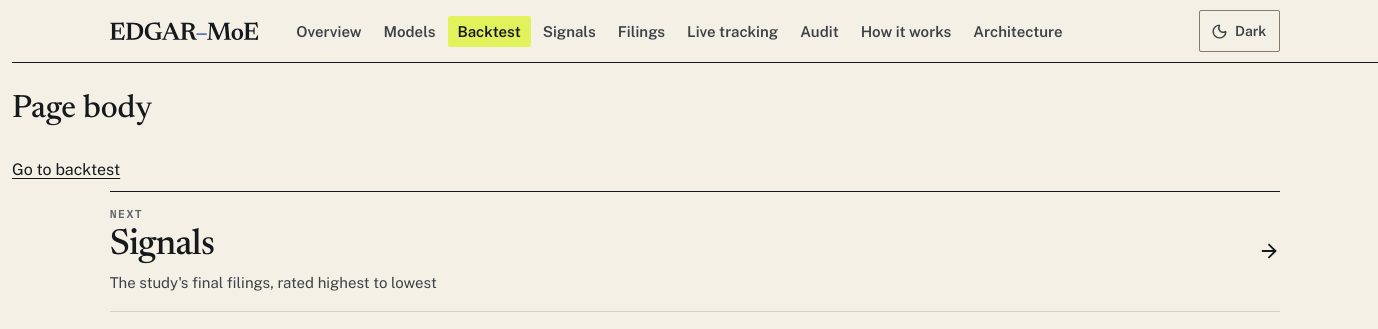
Layout › points to the next page, and back to the start from the last one
Step 1. Click the link "How it works" → (906, 31), box [861,22,951,40]
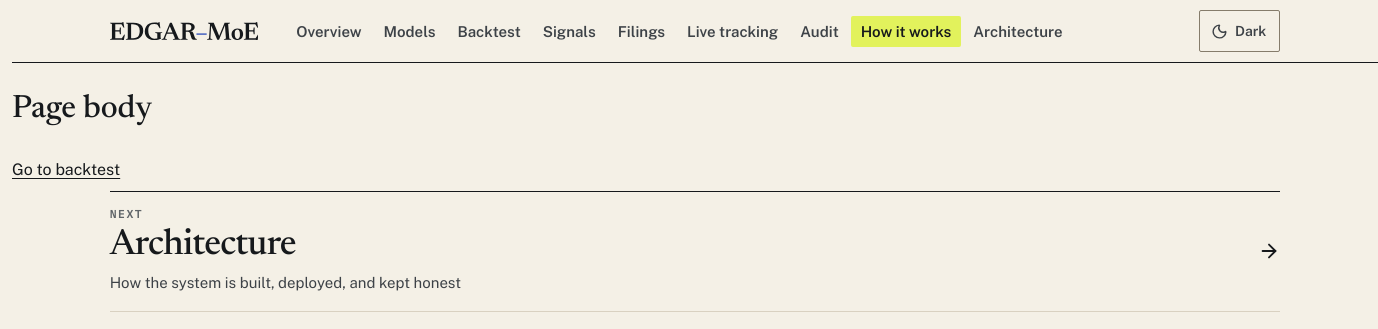
Check: the link that starts with "Next" has attribute href="/architecture", box [110,191,1280,312]
Step 2. Click the link "Architecture" → (1018, 31), box [973,22,1063,40]
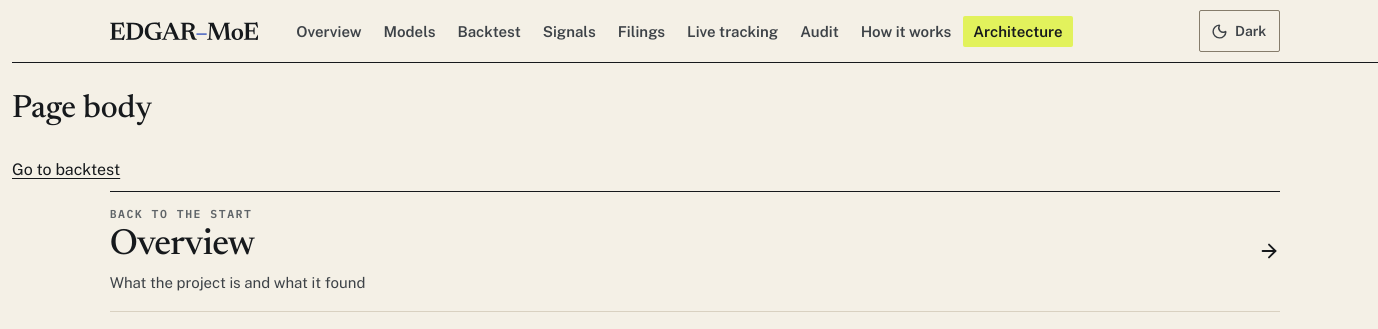
Check: the link that starts with "Back to the start" is shown, box [110,191,1280,312]
